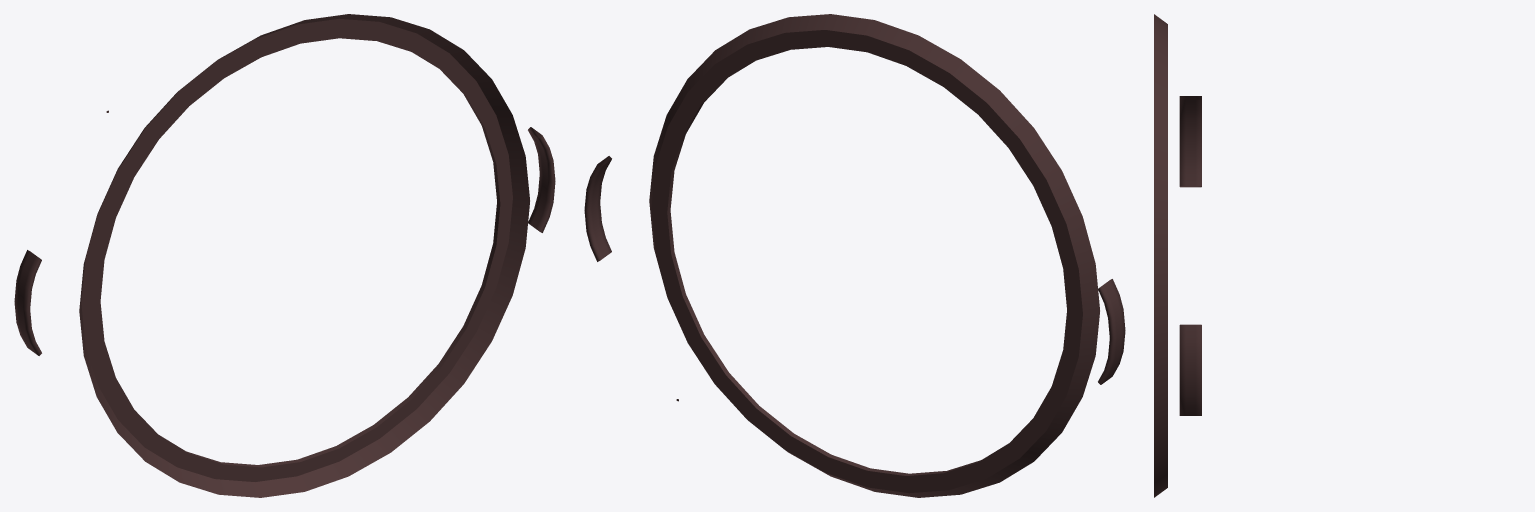
Rendered from MeshPot_22_0_GeomSubset_1.obj.
The picture shows the model from 3 angles, left to right: view 1: azimuth 30°, elevation 25°; view 2: azimuth 150°, elevation 25°; view 3: azimuth 270°, elevation 25°; orthographic projection. The views are drawn at different scales.
Parts seen in each view (by area): view 1: MeshPot_22_0_GeomSubset_1; view 2: MeshPot_22_0_GeomSubset_1; view 3: MeshPot_22_0_GeomSubset_1.
Part boxes in pixels (x1=…): MeshPot_22_0_GeomSubset_1: x1=14, y1=14, x2=555, y2=497; MeshPot_22_0_GeomSubset_1: x1=584, y1=14, x2=1125, y2=497; MeshPot_22_0_GeomSubset_1: x1=1154, y1=14, x2=1201, y2=497.
Size of the model in its own units: 0.2542 by 0.2166 by 0.1638.
